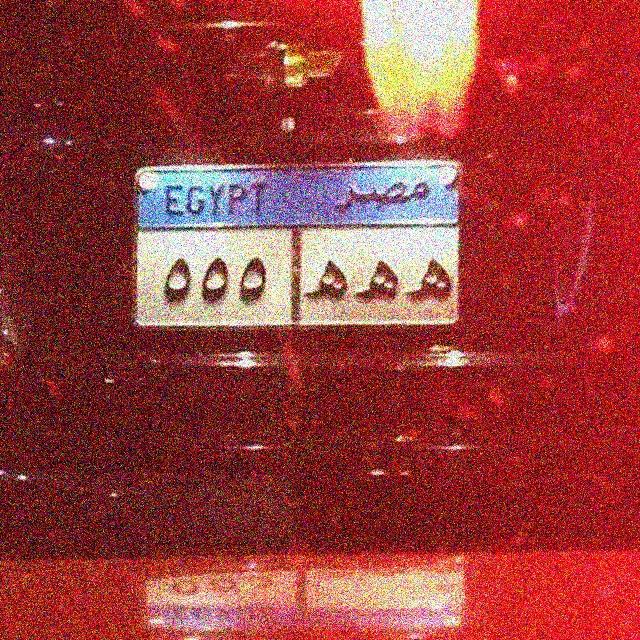License Plate: (132, 159, 464, 332)
